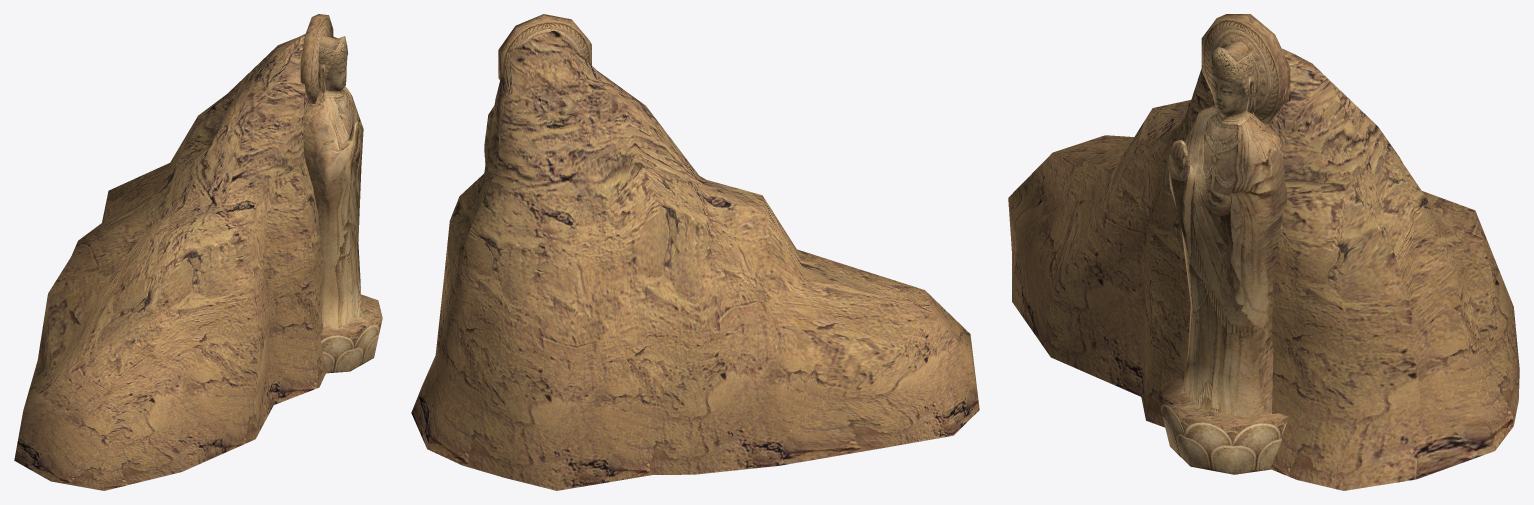
File: w_cd_budaa02.glb
3 renders of one model, left to right at view 1: azimuth 30°, elevation 25°; view 2: azimuth 150°, elevation 25°; view 3: azimuth 270°, elevation 25°, orthographic. The views are drawn at different scales.
Parts seen in each view (by area): view 1: w_cd_budawall_02, w_cd_buda_02; view 2: w_cd_budawall_02, w_cd_buda_02; view 3: w_cd_budawall_02, w_cd_buda_02.
Part boxes in pixels (x1,y1,x2,y2): w_cd_budawall_02: (14,33,326,490); w_cd_buda_02: (300,14,382,373); w_cd_budawall_02: (411,31,979,490); w_cd_buda_02: (484,14,591,164); w_cd_budawall_02: (1008,48,1519,490); w_cd_buda_02: (1157,14,1290,474).
Size of the model in its own units: 39.13 by 30.31 by 32.43.
2 materials, 2 textured.
